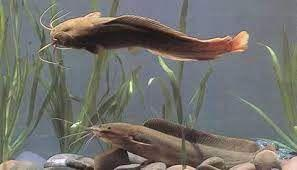Catfish: (35, 0, 250, 66)
